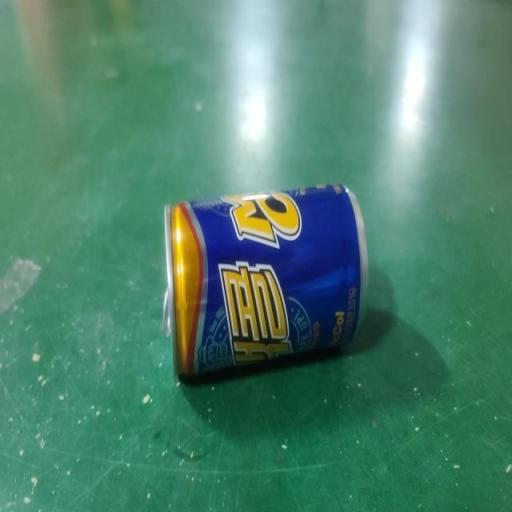metal: (141, 149, 377, 420)
